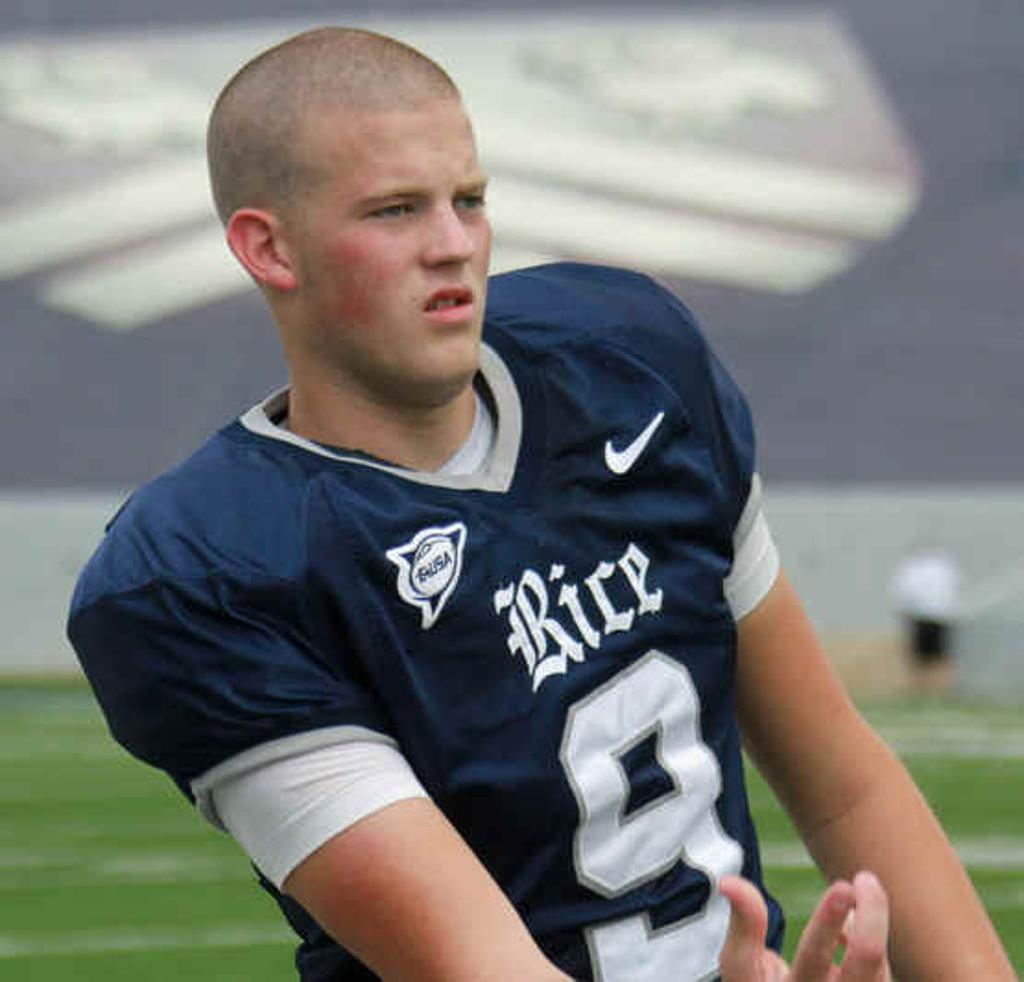face: (281, 107, 493, 379)
